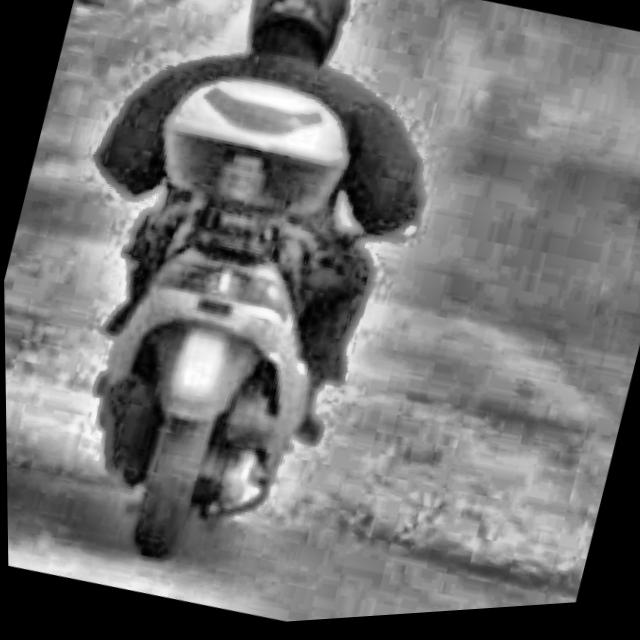motorcycle: (14, 43, 469, 623)
